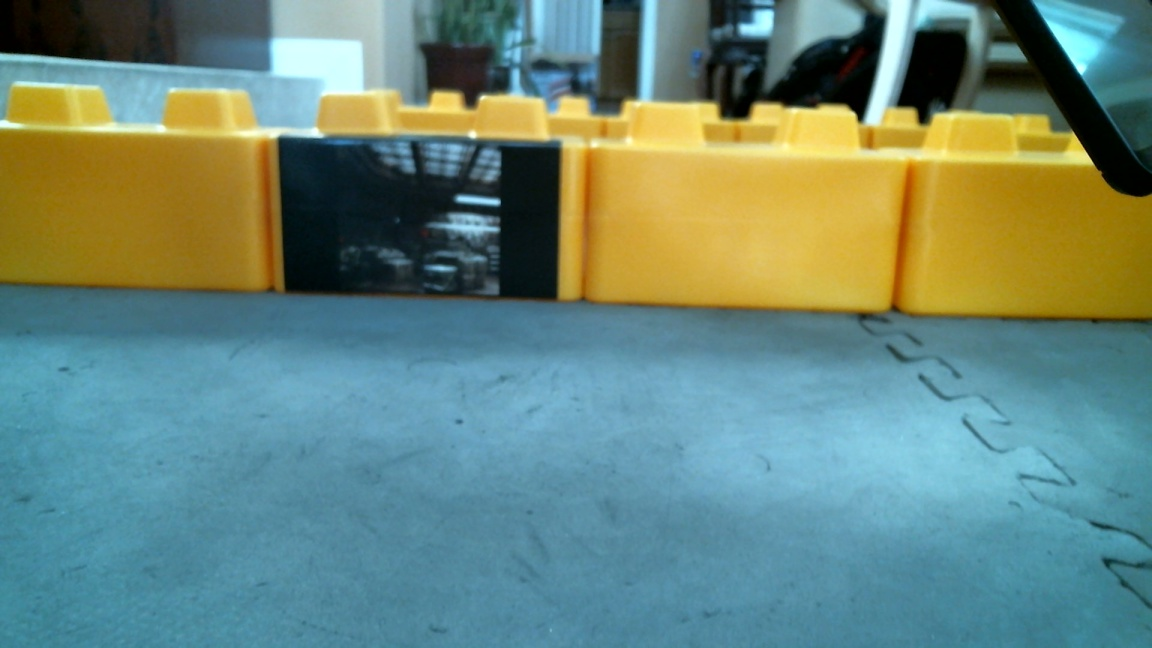skystone: (268, 93, 588, 303)
stone: (582, 102, 899, 315), (1, 77, 276, 294), (900, 111, 1152, 315)
